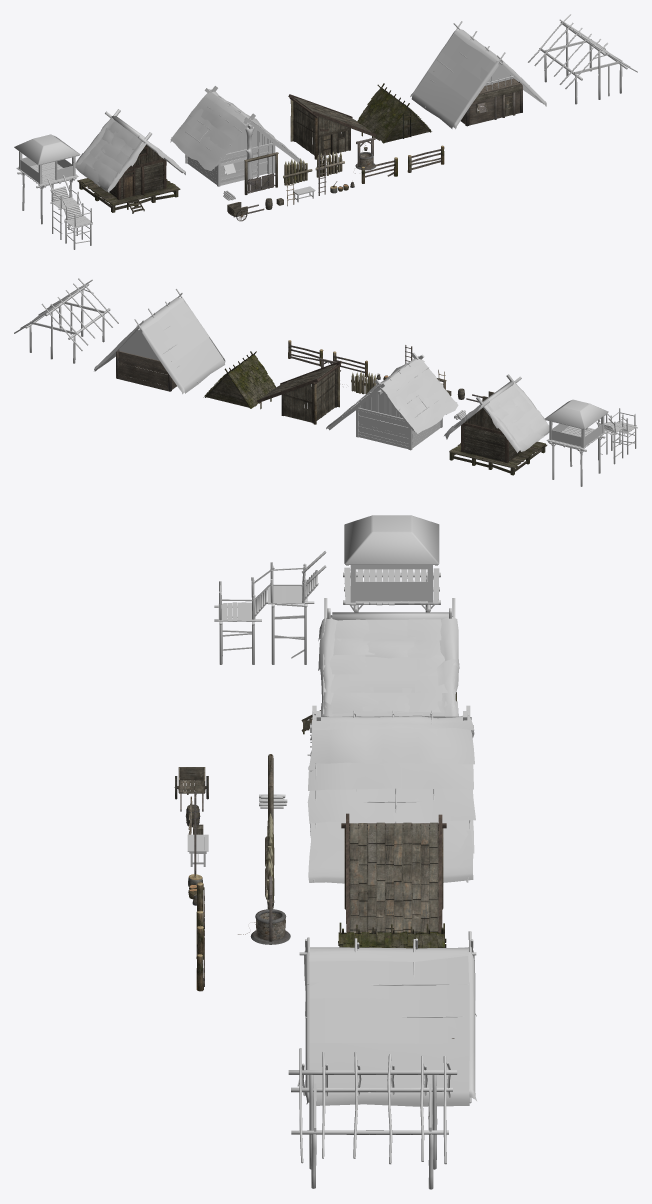
File: SM_Village.fbx
3 renders of one model, top to bottom at view 1: azimuth 30°, elevation 25°; view 2: azimuth 150°, elevation 25°; view 3: azimuth 270°, elevation 25°, orthographic. The views are drawn at different scales.
Parts seen in each view (by area): view 1: house 5, house 1, house 3, house 2, fortification, house 4, structure, stilt, wooden wall, wooden wall .001, well, fence 1 (+3 smaller); view 2: house 5, house 1, house 3, house 2, fortification, house 4, structure, stilt, wooden wall .001, fence 1; view 3: house 5, house 1, house 3, house 2, fortification, structure, stilt, house 4, well, cart.
Part boxes in pixels (x1,y1,x2,y2): house 5: [410, 21, 546, 129]; house 1: [170, 86, 305, 186]; house 3: [75, 109, 185, 213]; house 2: [288, 94, 375, 159]; fortification: [14, 134, 80, 224]; house 4: [357, 83, 431, 143]; structure: [528, 14, 637, 104]; stilt: [47, 175, 92, 249]; wooden wall: [283, 158, 312, 185]; wooden wall .001: [315, 151, 344, 177]; well: [355, 137, 375, 173]; fence 1: [407, 145, 444, 172]; house 5: [94, 288, 225, 394]; house 1: [326, 352, 458, 450]; house 3: [444, 374, 549, 475]; house 2: [257, 361, 341, 424]; fortification: [544, 399, 608, 486]; house 4: [203, 351, 276, 408]; structure: [14, 278, 118, 363]; stilt: [596, 408, 637, 464]; wooden wall .001: [351, 371, 376, 394]; fence 1: [288, 340, 323, 366]; house 5: [299, 931, 476, 1106]; house 1: [307, 705, 475, 883]; house 3: [301, 598, 459, 734]; house 2: [341, 813, 446, 934]; fortification: [343, 515, 440, 612]; structure: [288, 1048, 457, 1189]; stilt: [214, 551, 326, 664]; house 4: [338, 922, 446, 948]; well: [238, 876, 290, 944]; cart: [174, 767, 208, 811].
Size of the model in its own units: 6387 by 778 by 1468.
